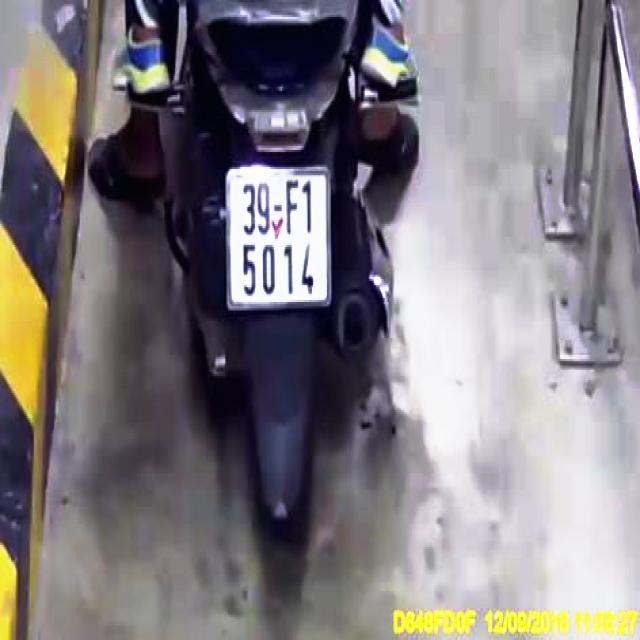license_plate: (230, 171, 331, 310)
